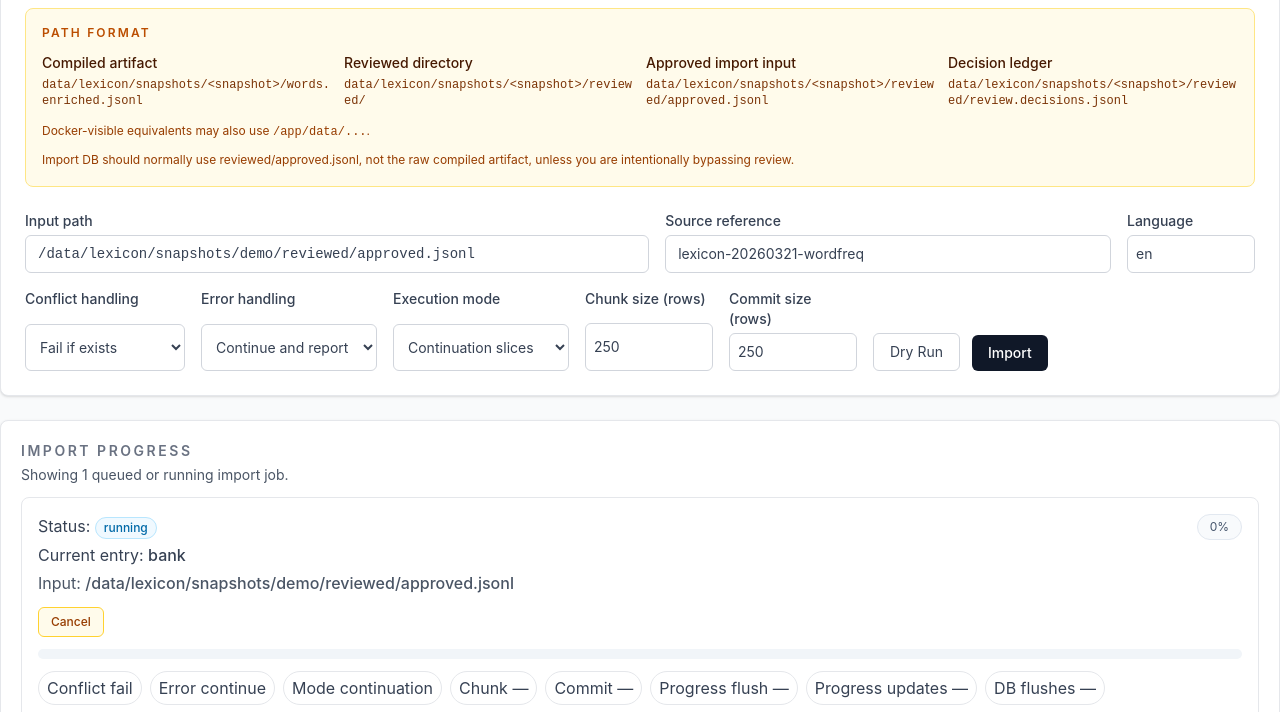
LexiconImportDbPage › keeps the dry-run result visible when an active job is already tracked
This screenshot has width=1280, height=712.
(page scrolled)
What coordinates should you click on to do the following:
click the button with test id "lexicon-import-db-dry-run-button"
I would click on:
 (916, 352)
Its box is [873,333,960,371].
(page scrolled)
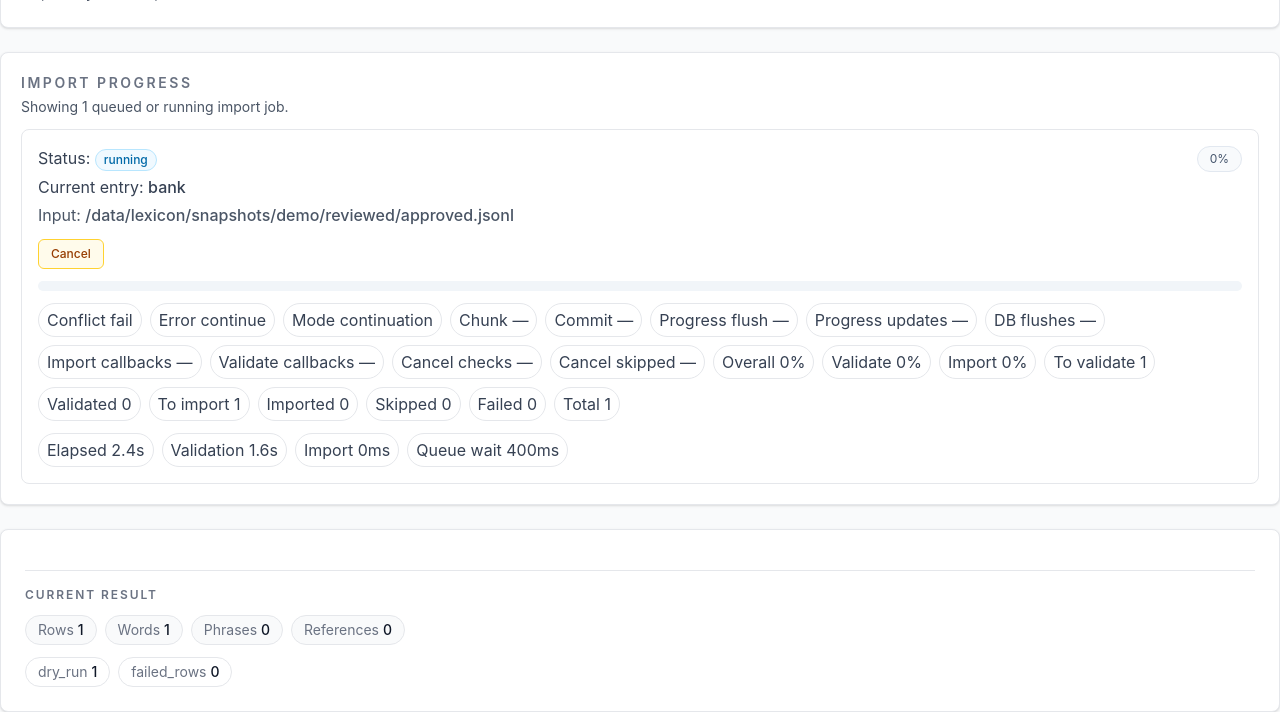
expect the element with test id "lexicon-import-db-summary-rows" is shown: met, box [25,615,96,645]
expect the element with test id "lexicon-import-db-summary-rows" shows "Rows": met, box [38,621,78,638]
expect the element with test id "lexicon-import-db-summary-rows" shows "1": met, box [78,621,84,638]
